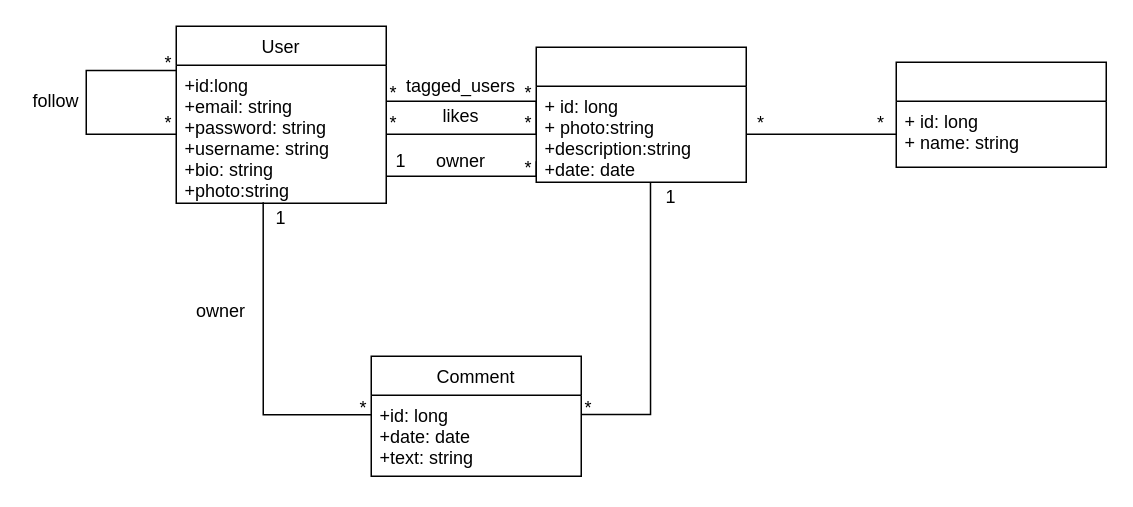
The diagram is 1133 pixels wide and 507 high, and some of its shapes have lost their labels. The shapes that lost their labels are listed below. From the top down, each one's box as (x1, y1, x2, y2) in pixels, then its label:
(535, 46, 746, 182): Publication
(895, 61, 1106, 167): hashtag
